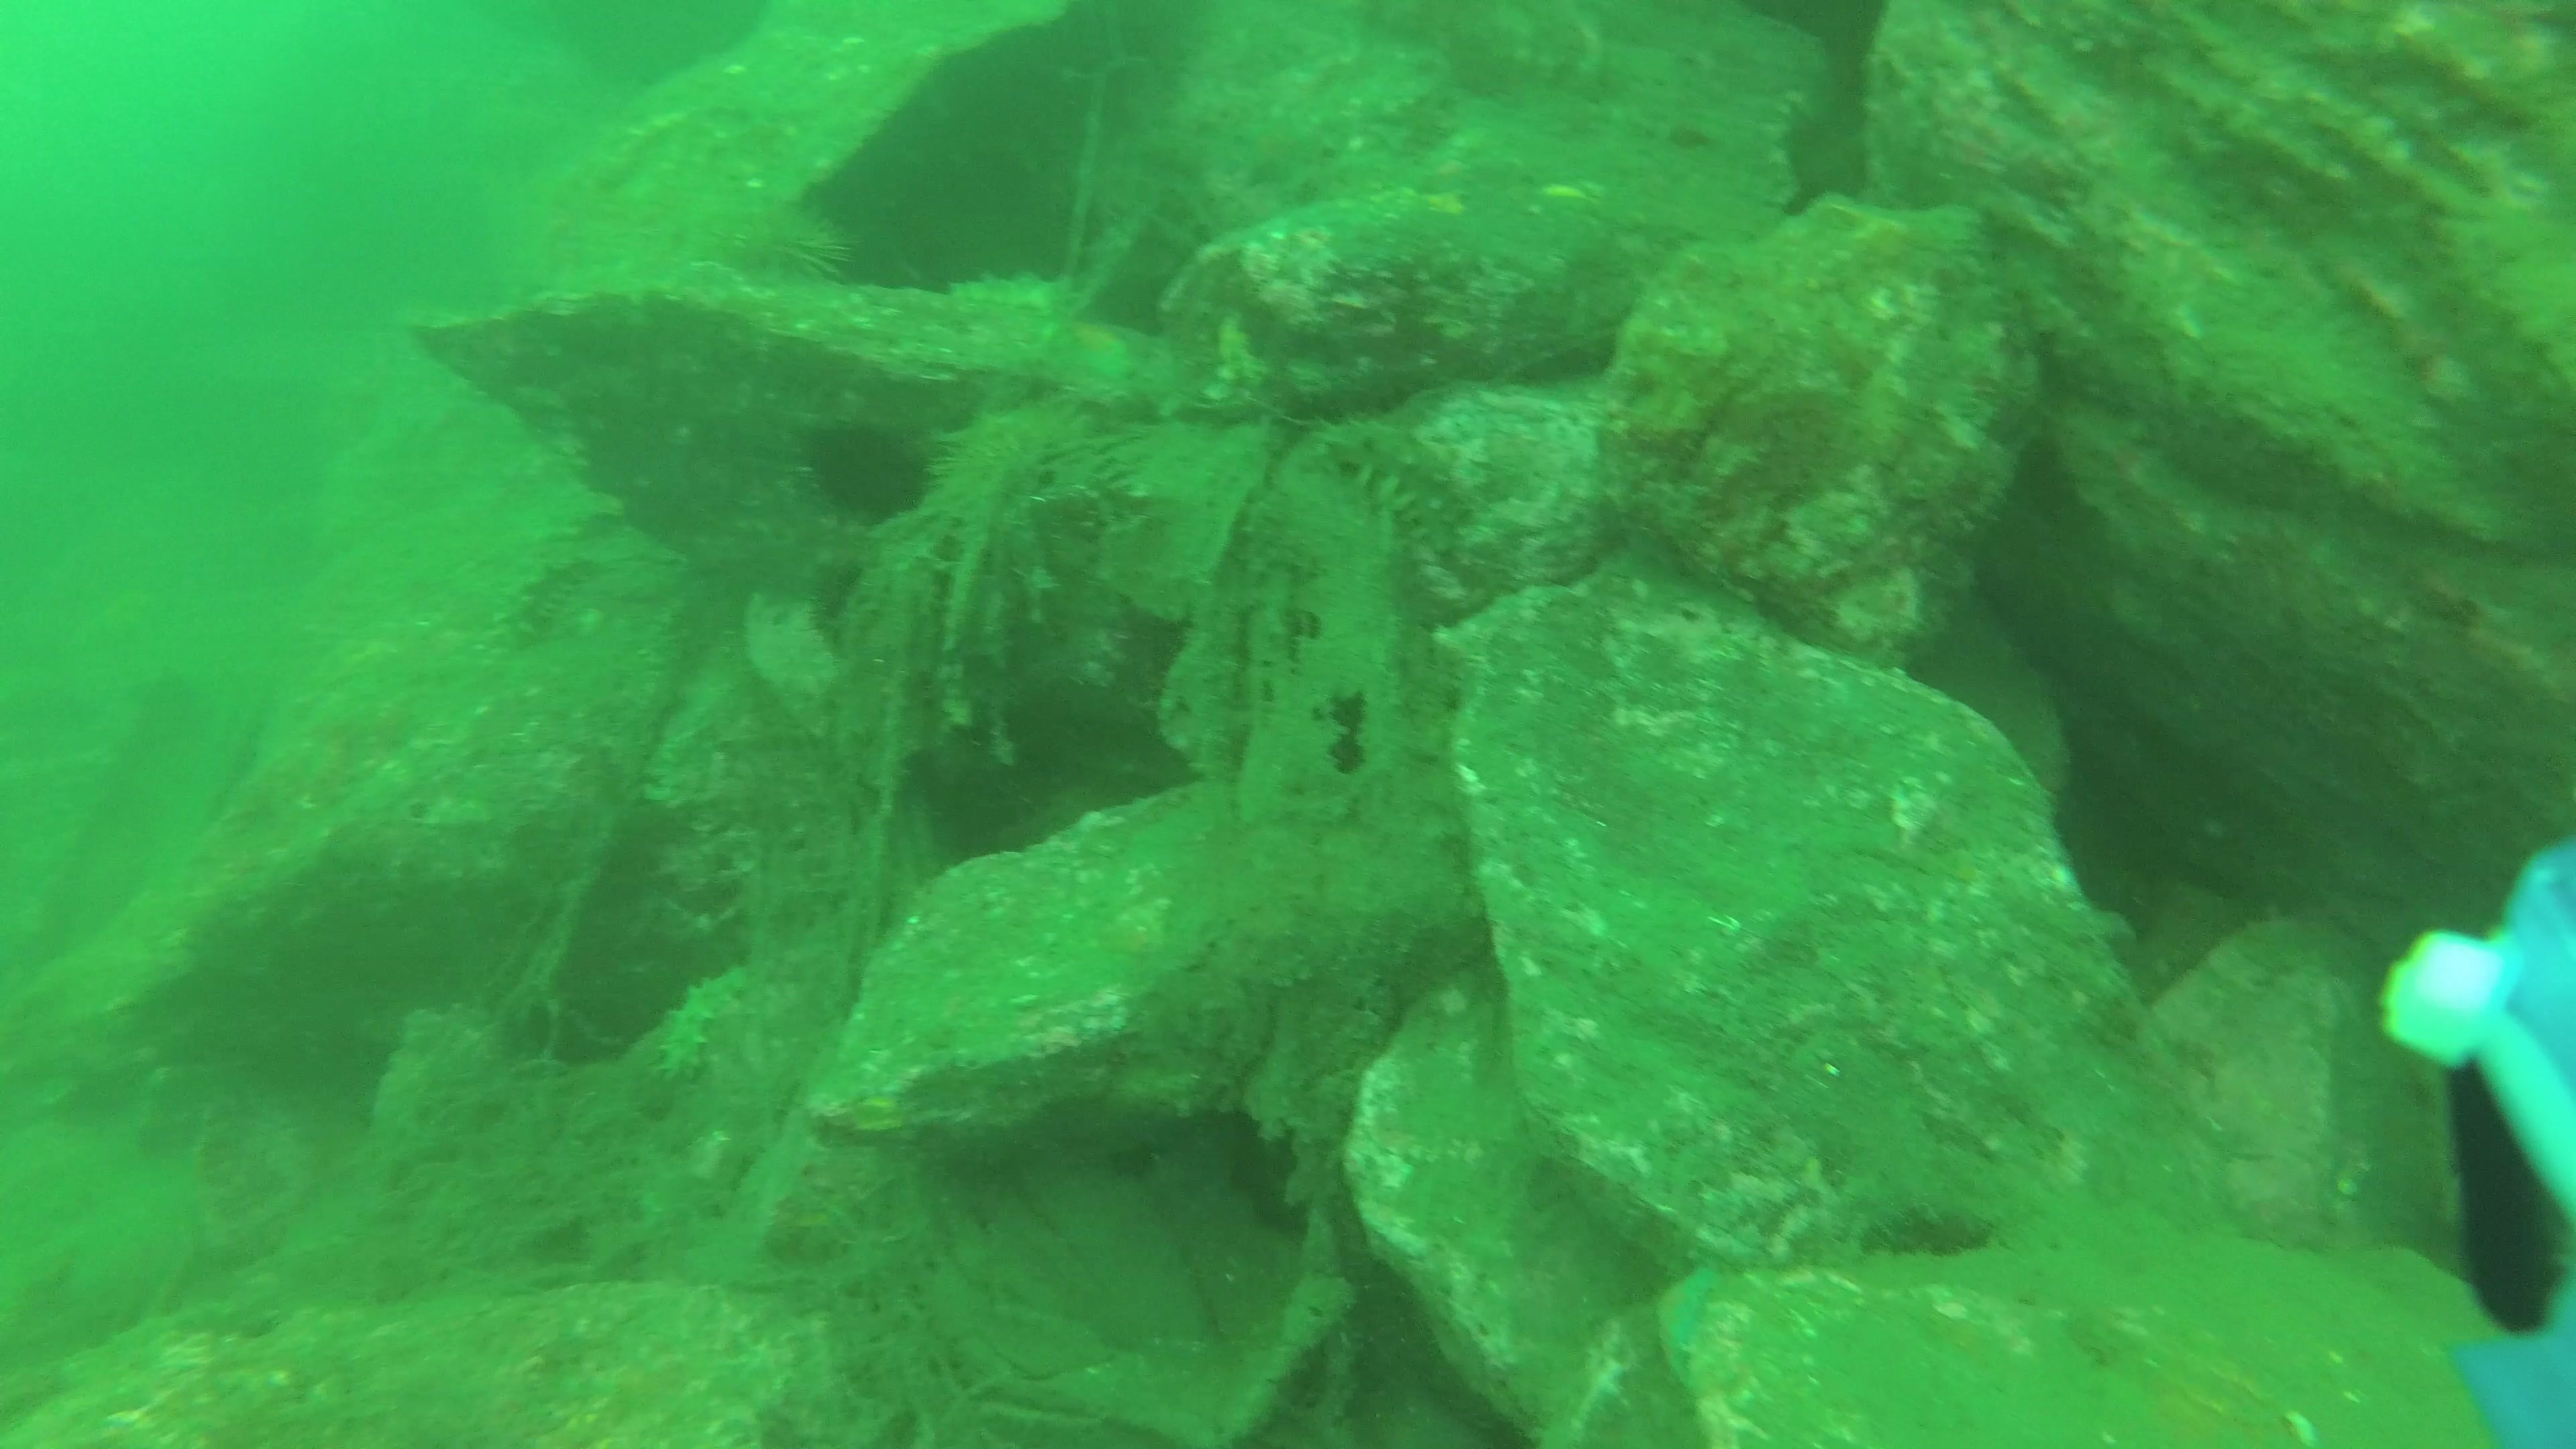echinus: (791, 410, 945, 540), (706, 188, 856, 308)
holothurian: (1311, 403, 1477, 575), (655, 950, 757, 1093), (501, 538, 602, 683)
